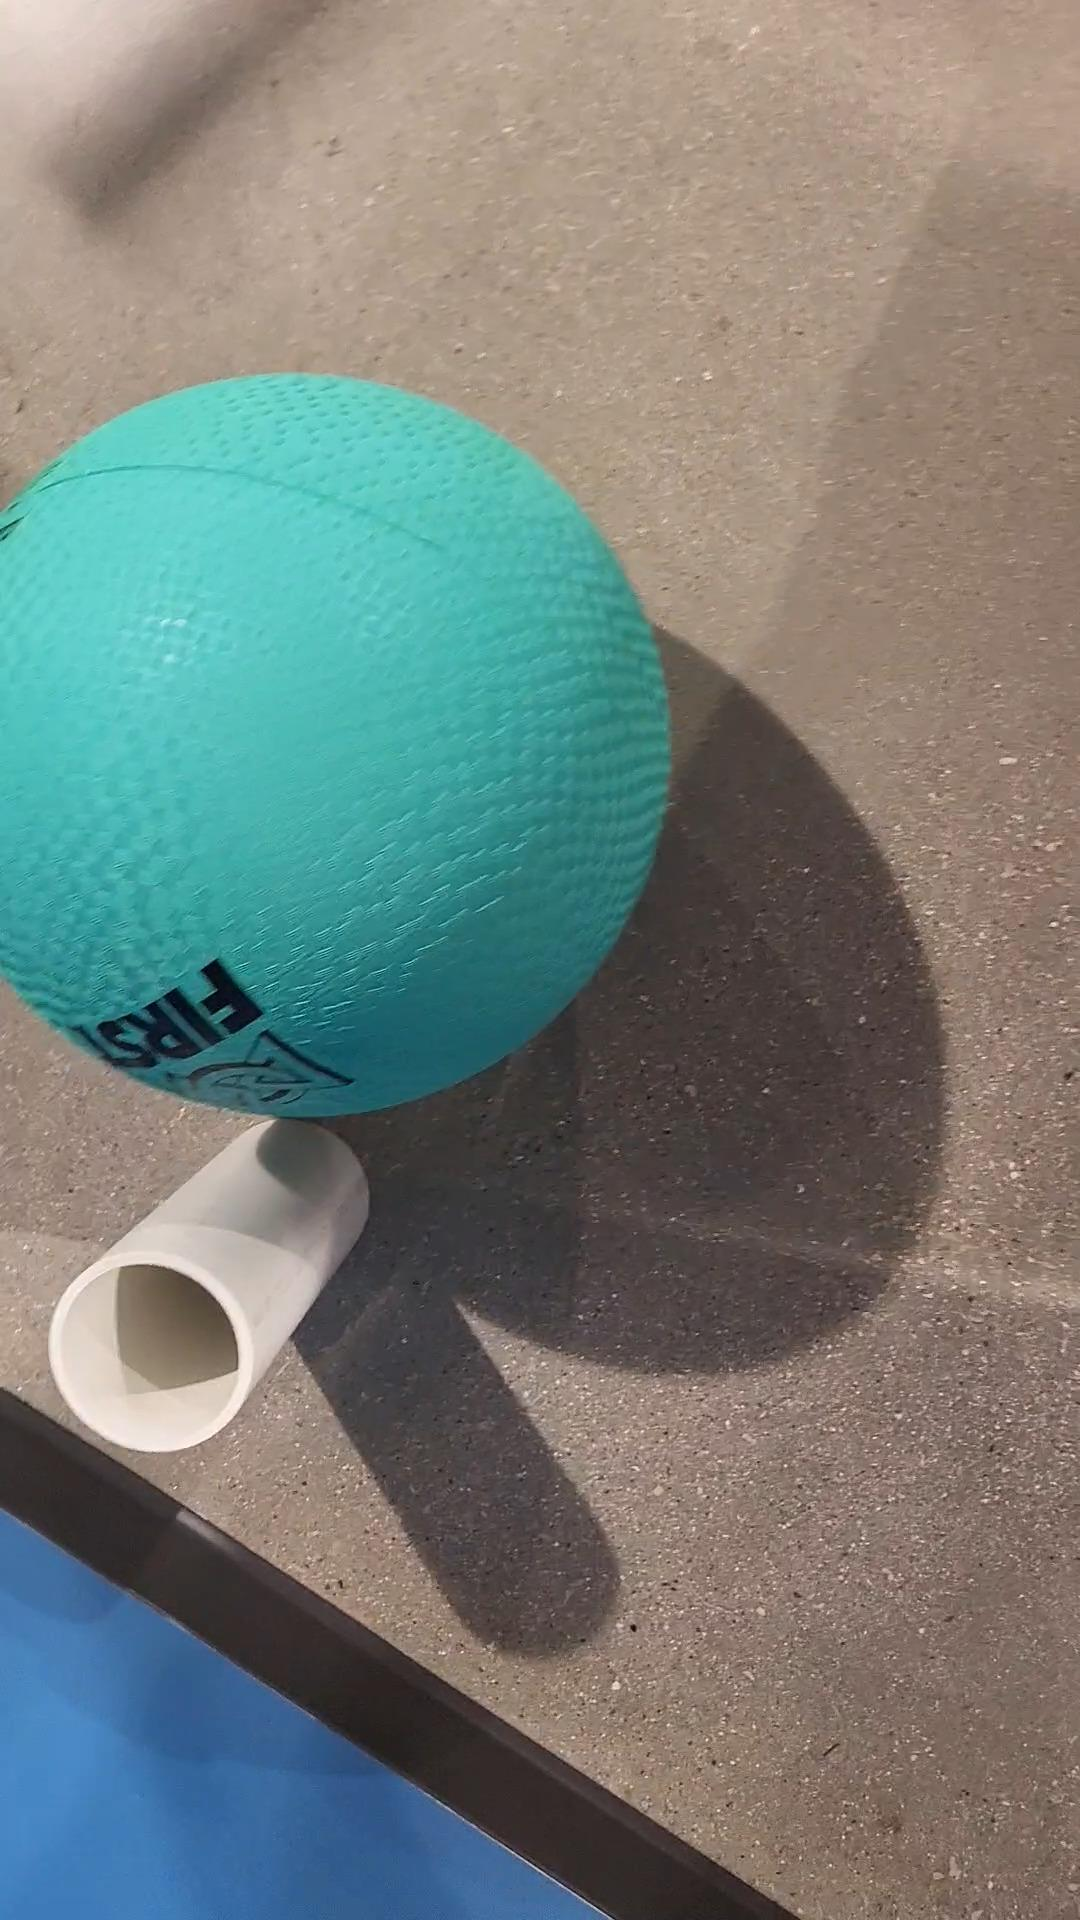algae: (0, 375, 667, 1120)
coral: (55, 1122, 368, 1448)
